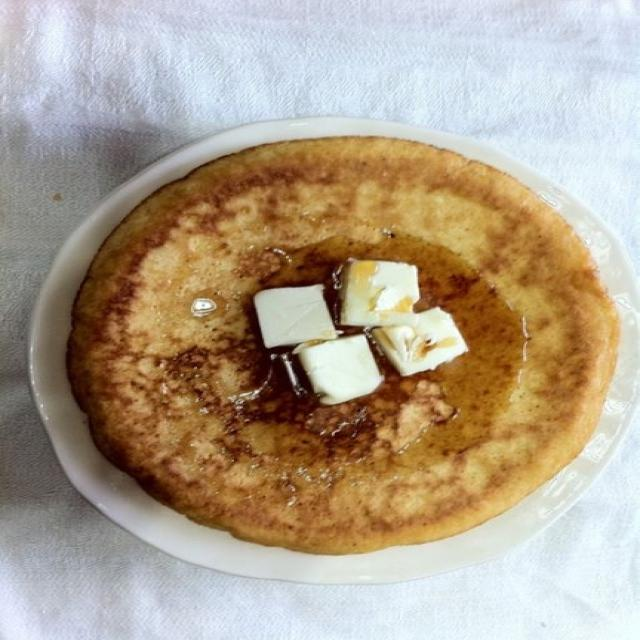蛋糕甜品: (36, 133, 637, 570)
